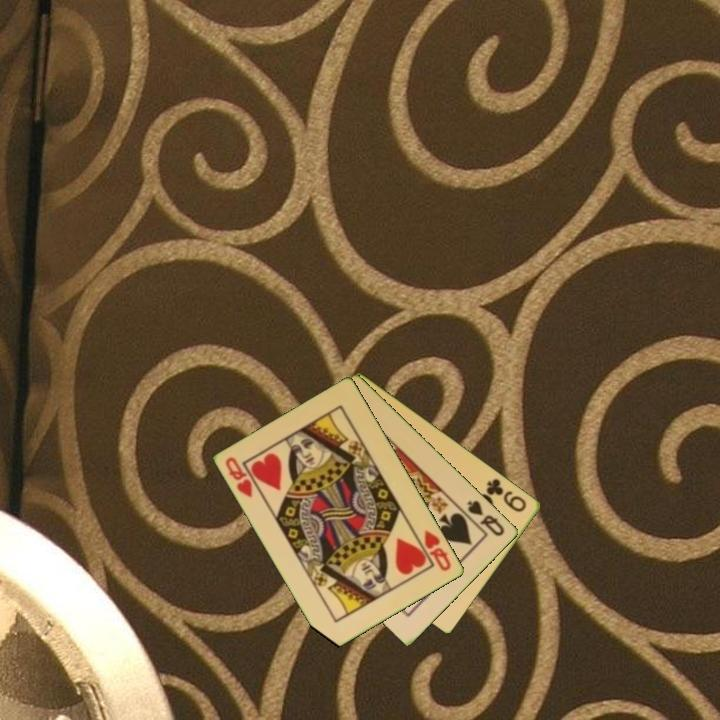9c: (483, 474, 530, 515)
Qh: (222, 453, 256, 501), (421, 526, 454, 574)
Qs: (464, 497, 508, 539)
